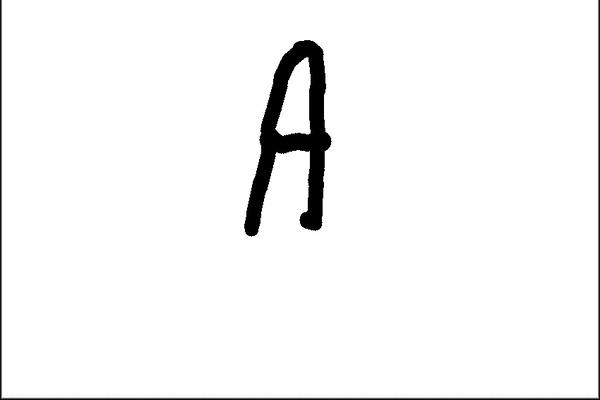A: (229, 34, 339, 246)
